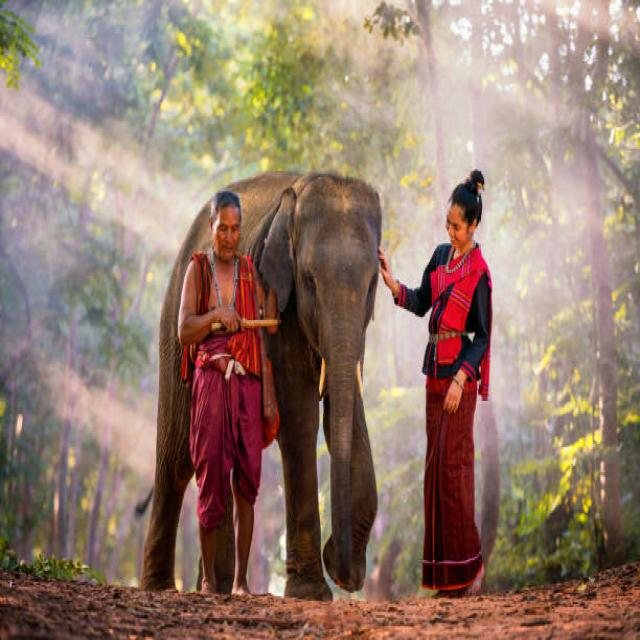Elephant: (263, 158, 393, 610)
